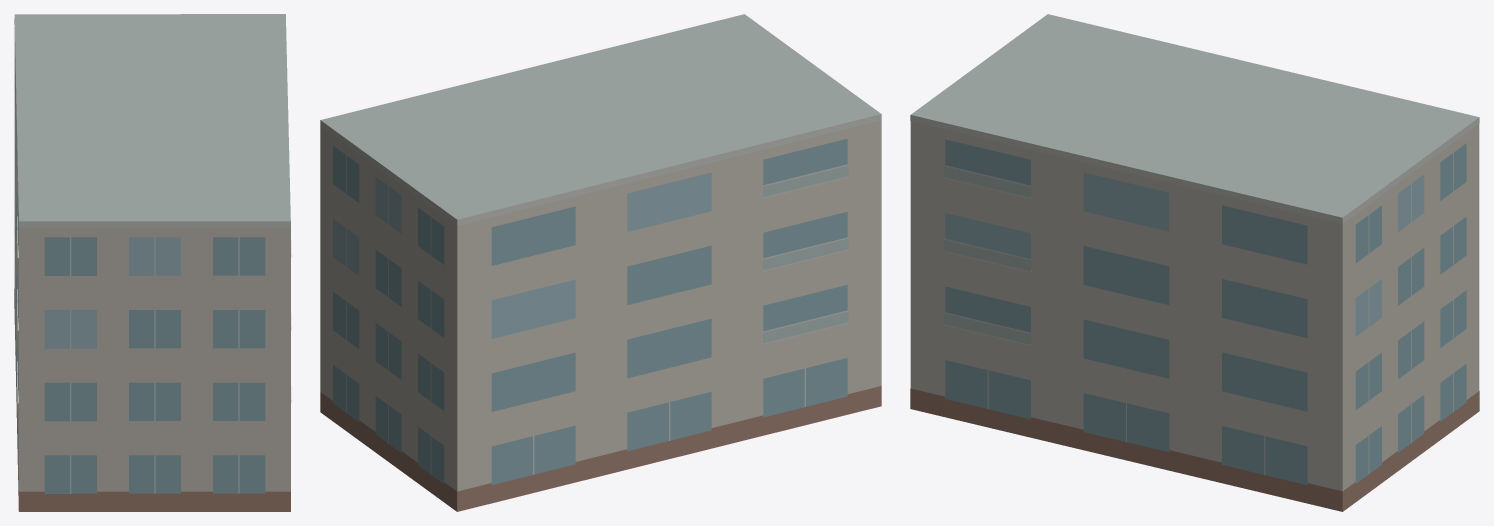
Rendered from survey-upis-32691922.glb.
3 views of the same model, side by side, from view 1: azimuth 30°, elevation 25°; view 2: azimuth 150°, elevation 25°; view 3: azimuth 270°, elevation 25° (orthographic).
Parts seen in each view (by area): view 1: survey-upis-32691922.tmp; view 2: survey-upis-32691922.tmp; view 3: survey-upis-32691922.tmp.
Part boxes in pixels (<box>): survey-upis-32691922.tmp: <box>14,14,291,511</box>; survey-upis-32691922.tmp: <box>320,14,881,511</box>; survey-upis-32691922.tmp: <box>910,14,1479,511</box>.
Bounding box in the file's own units: 17.24 × 11.6 × 20.34.
